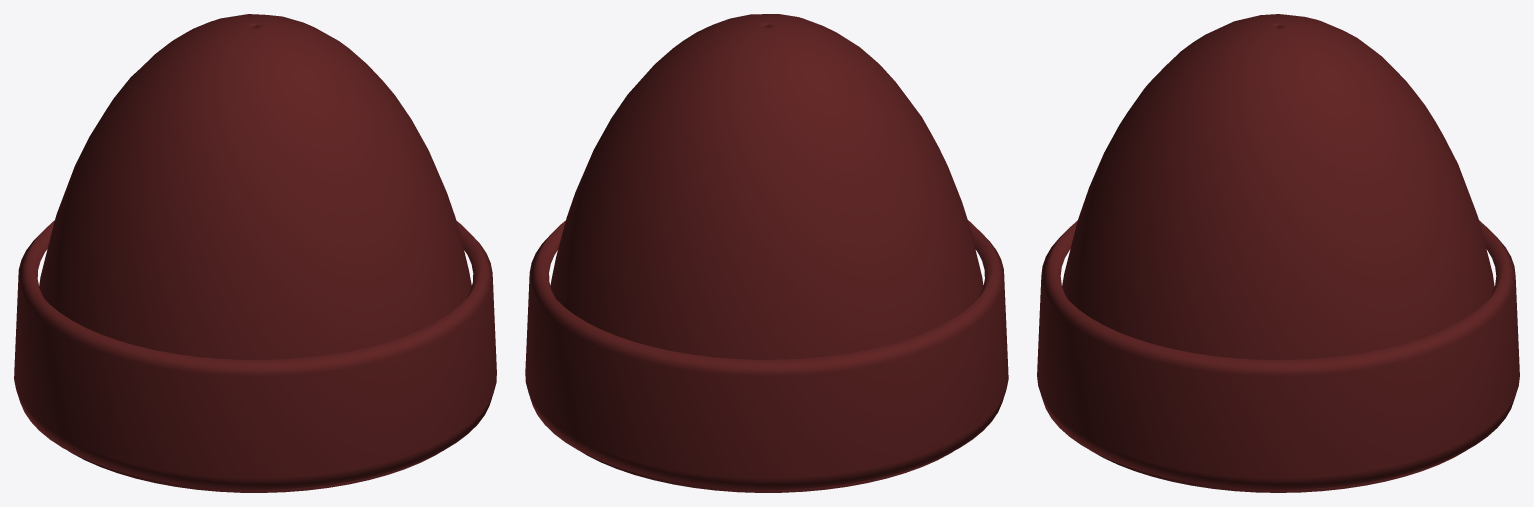
Rendered from sacrificial-beanie-tailored-v6.glb.
3 renders of one model, left to right at view 1: azimuth 30°, elevation 25°; view 2: azimuth 150°, elevation 25°; view 3: azimuth 270°, elevation 25°, orthographic.
Visible parts, largest first — view 1: Knitted beanie; view 2: Knitted beanie; view 3: Knitted beanie.
Boxes of the visible parts, x1,y1,x2,y2 form: Knitted beanie: (14,14,496,492); Knitted beanie: (525,14,1008,492); Knitted beanie: (1037,14,1519,492).
Bounding box in the file's own units: 0.224 × 0.19 × 0.224.
